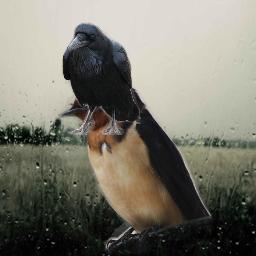Crow: (61, 22, 140, 135)
Swallow: (58, 77, 213, 254)
